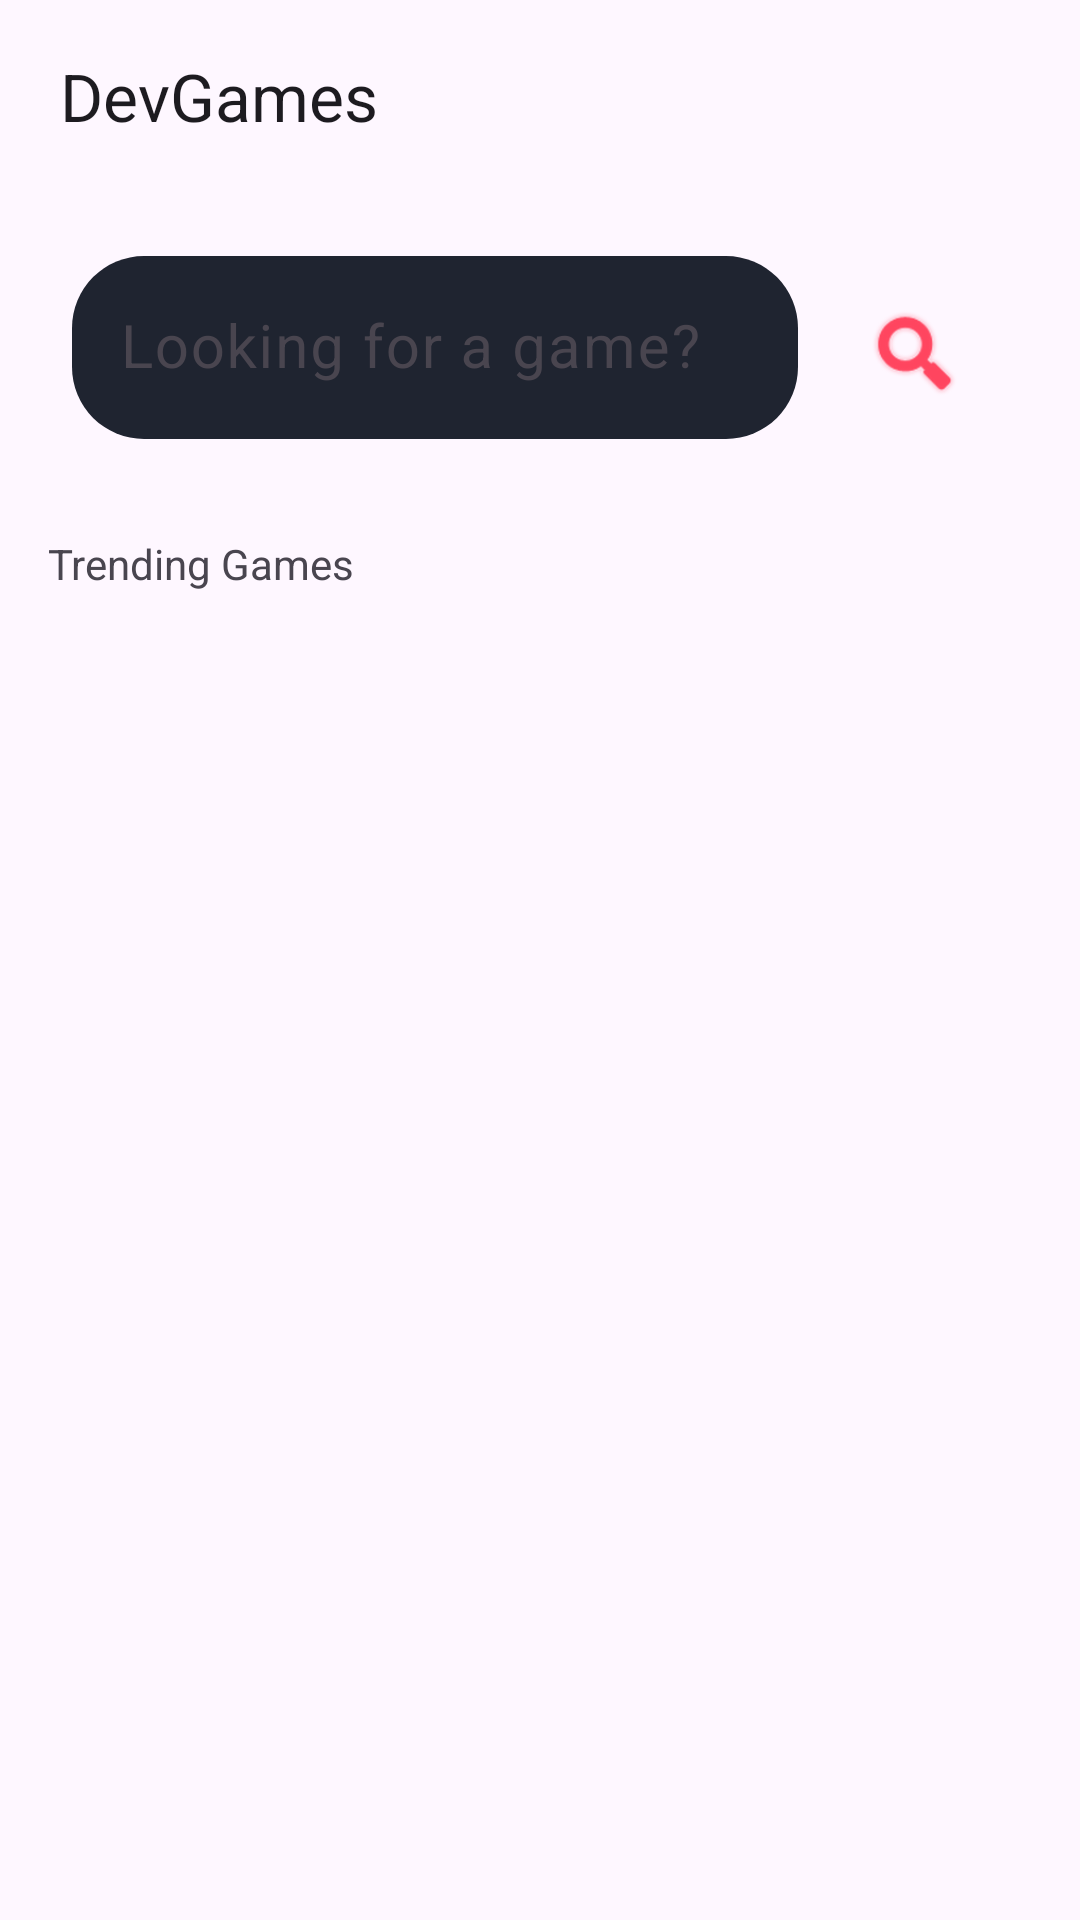

Named icons in this screenshot (1080px×1920px) and their centers, (x,y):
search category: (915,353)
